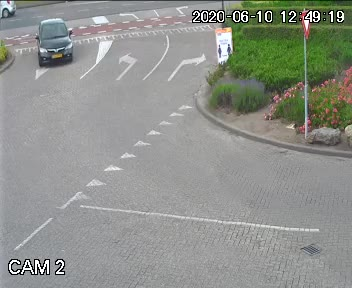car: (33, 12, 73, 71)
